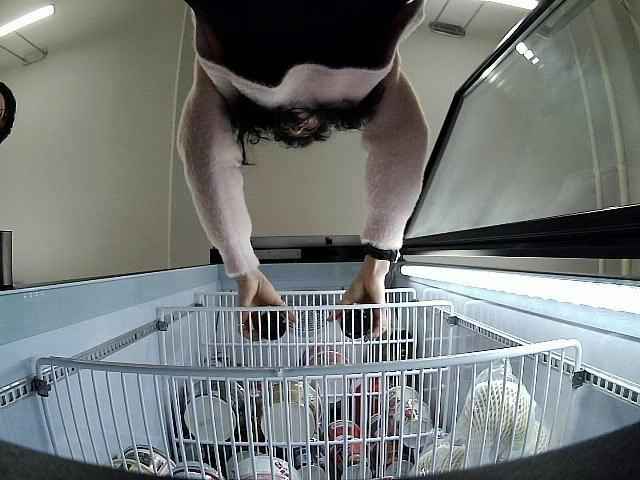17_vita500: (340, 300, 379, 339), (255, 309, 287, 340)
